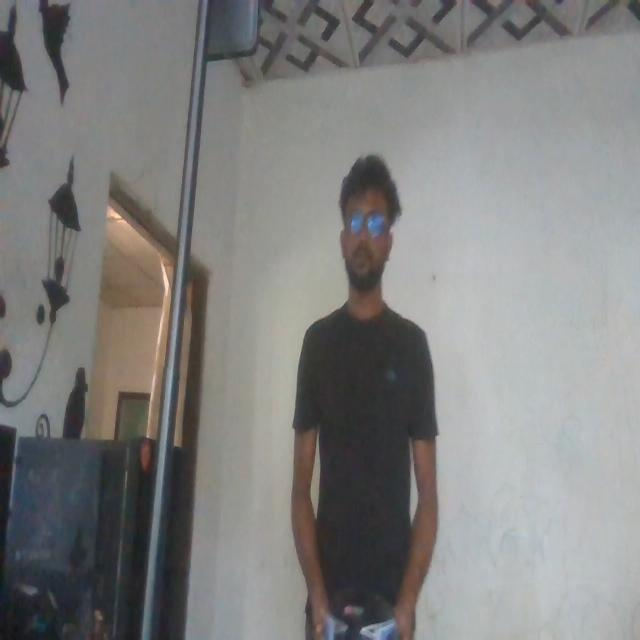Person: (291, 159, 439, 640)
